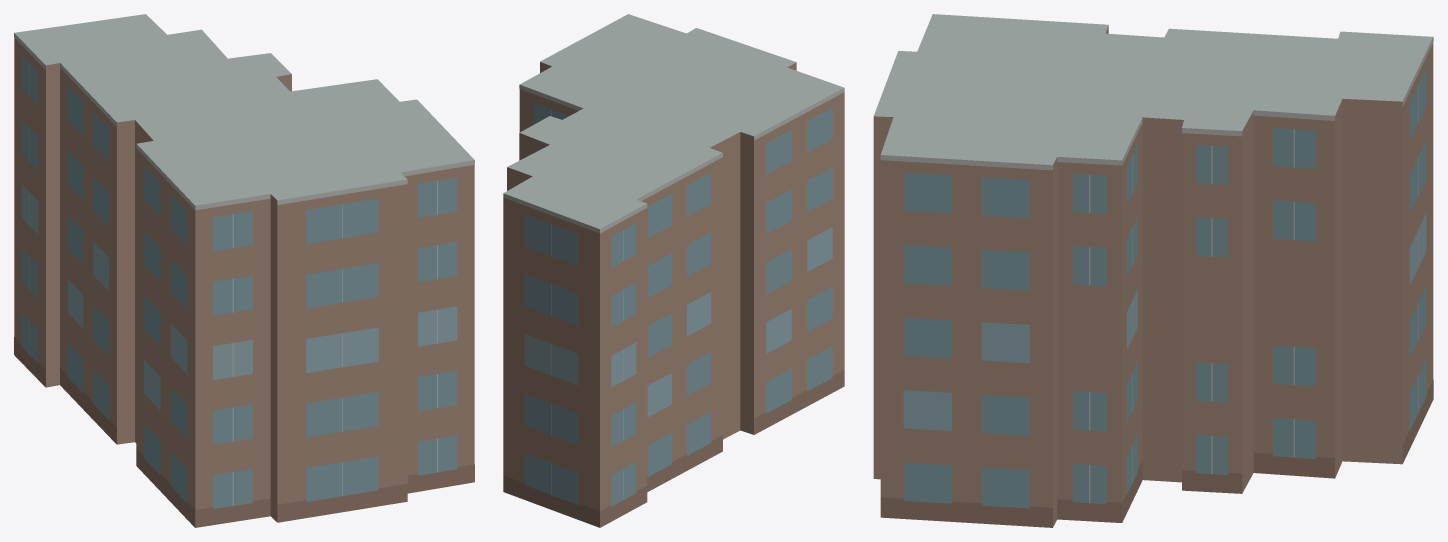
Rendered from survey-upis-32901330.glb.
3 renders of one model, left to right at view 1: azimuth 30°, elevation 25°; view 2: azimuth 150°, elevation 25°; view 3: azimuth 270°, elevation 25°, orthographic. The views are drawn at different scales.
Parts seen in each view (by area): view 1: survey-upis-32901330.tmp; view 2: survey-upis-32901330.tmp; view 3: survey-upis-32901330.tmp.
Part boxes in pixels (x1=…): survey-upis-32901330.tmp: x1=14, y1=14, x2=474, y2=527; survey-upis-32901330.tmp: x1=503, y1=14, x2=844, y2=527; survey-upis-32901330.tmp: x1=873, y1=14, x2=1433, y2=527.
Bounding box in the file's own units: 15.22 × 17 × 23.8.
